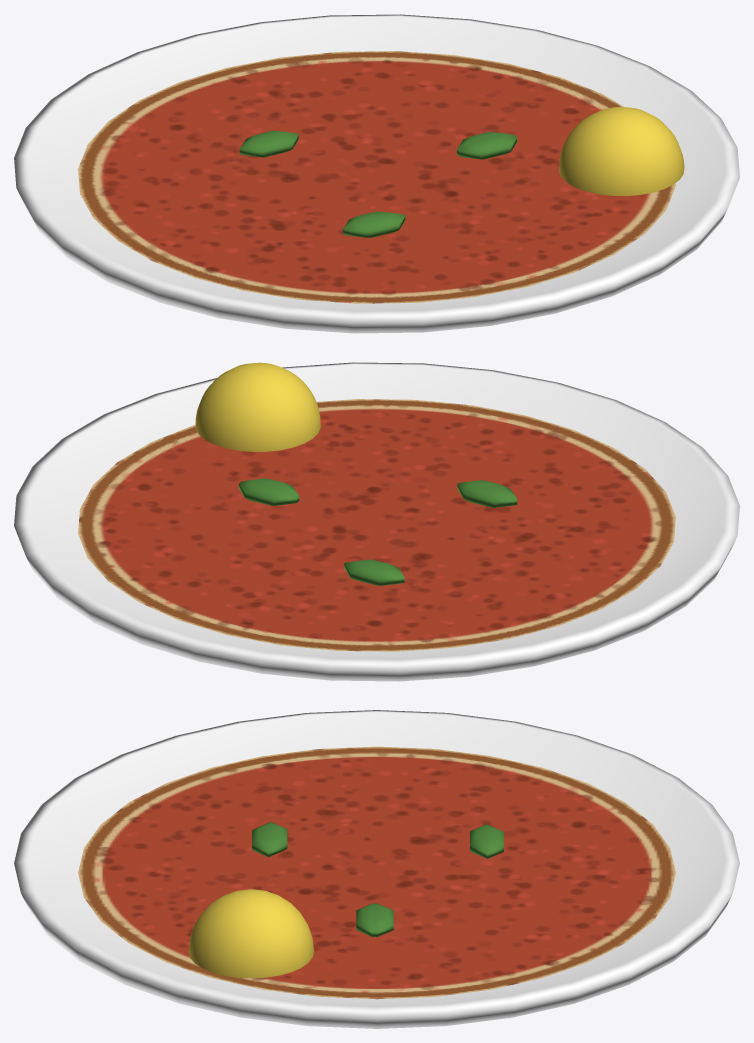
The model's file is lahmacun.glb.
The picture shows the model from 3 angles, top to bottom: view 1: azimuth 30°, elevation 25°; view 2: azimuth 150°, elevation 25°; view 3: azimuth 270°, elevation 25°; orthographic projection.
Parts seen in each view (by area): view 1: lahmacun; view 2: lahmacun; view 3: lahmacun.
Boxes of the visible parts, box(x1,y1,x2,y2) form: lahmacun: box(14, 14, 739, 333); lahmacun: box(14, 362, 739, 681); lahmacun: box(14, 710, 739, 1028).
Bounding box in the file's own units: 0.3468 × 0.05 × 0.3468.
Materials: 4 (1 with a texture image).
